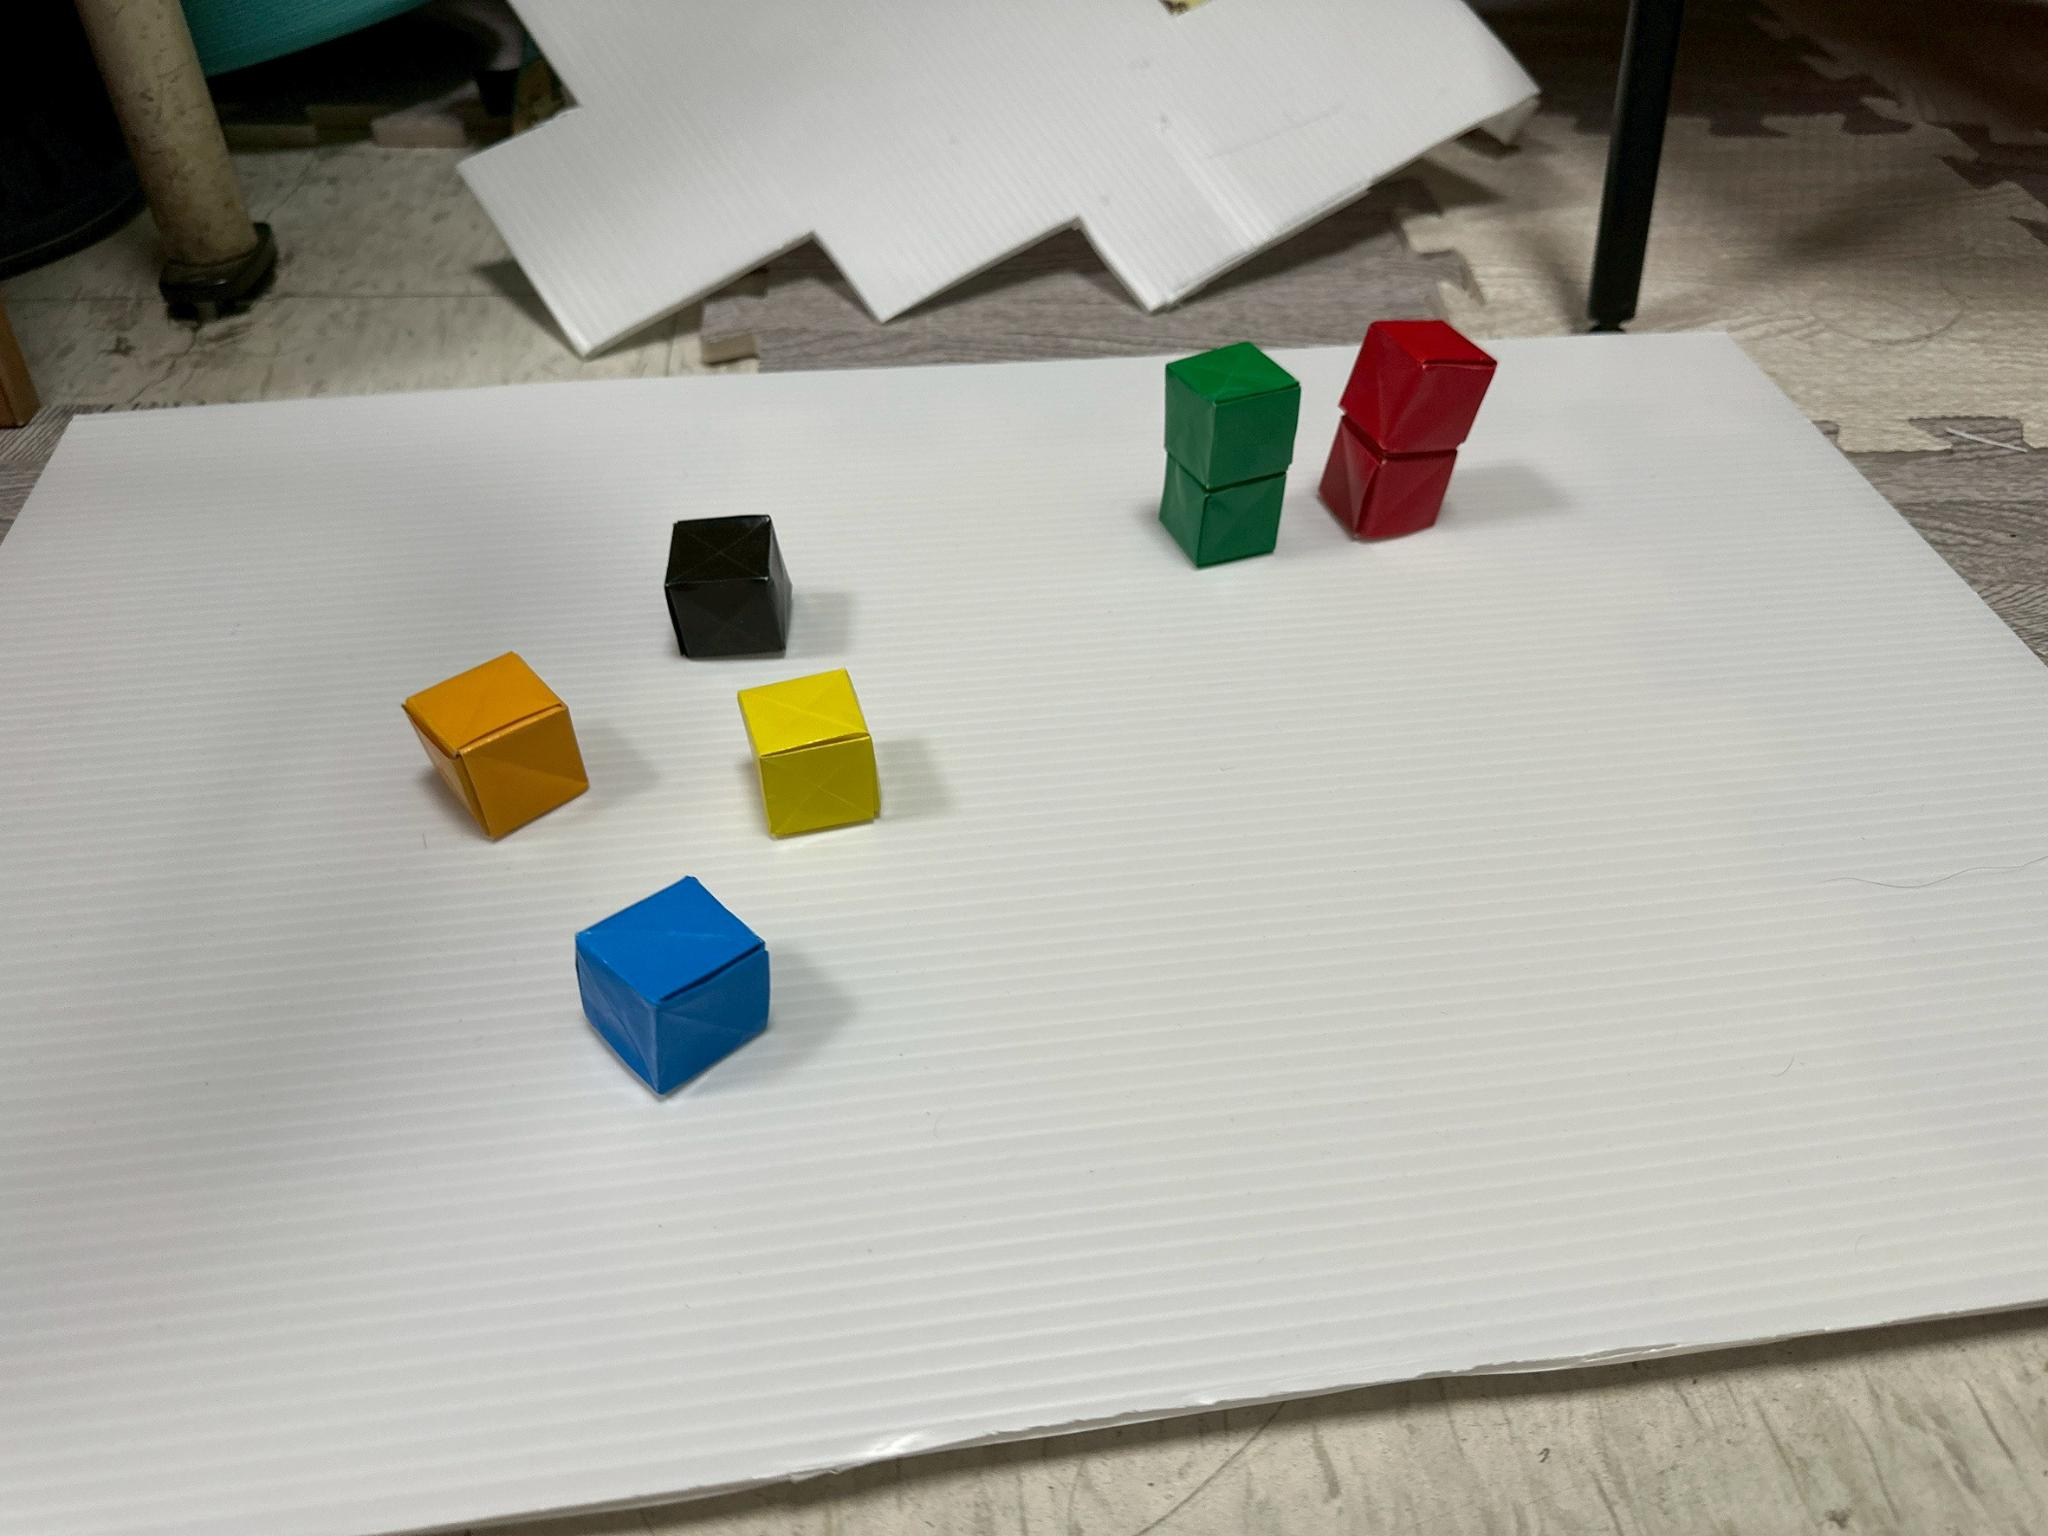cube: (577, 878, 769, 1094), (403, 653, 587, 837), (740, 670, 879, 836), (1340, 321, 1495, 455), (1166, 344, 1300, 489), (664, 515, 790, 660), (1319, 419, 1456, 539), (1159, 455, 1284, 566)
